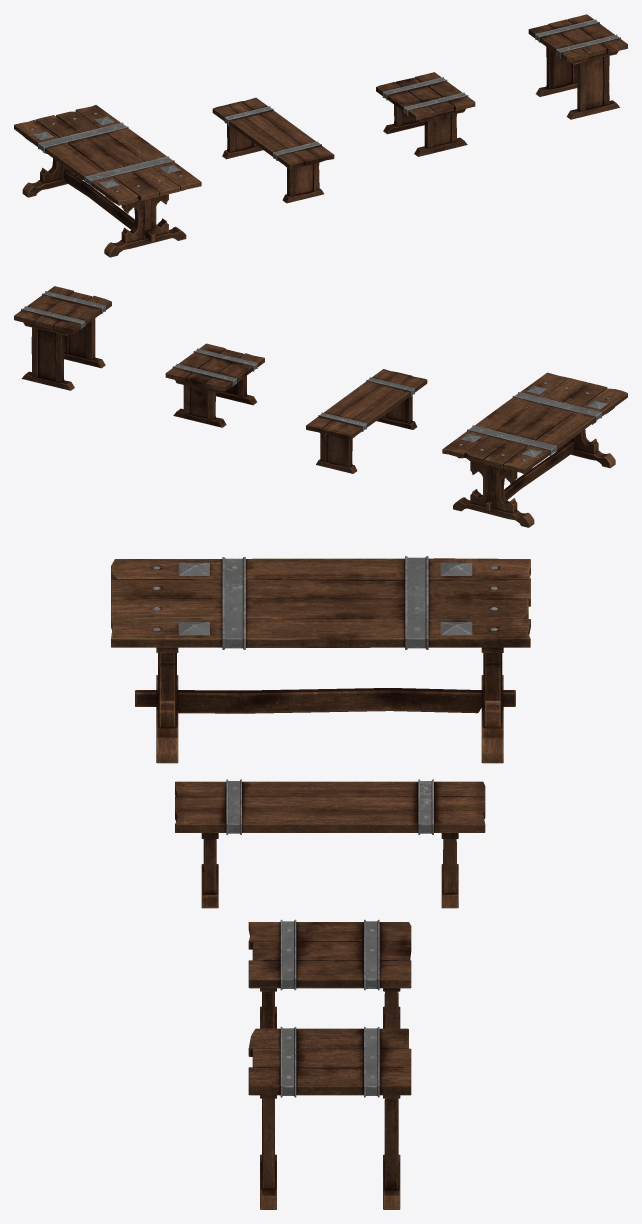
The model's file is Tables.fbx.
3 views of the same model, one above another, from view 1: azimuth 30°, elevation 25°; view 2: azimuth 150°, elevation 25°; view 3: azimuth 270°, elevation 25° (orthographic). The views are drawn at different scales.
Parts seen in each view (by area): view 1: Table_1, Tables_3.1, Table_2, Tables 3; view 2: Table_1, Tables_3.1, Table_2, Tables 3; view 3: Table_1, Table_2, Tables_3.1, Tables 3.
Part boxes in pixels (bbox=[...]): Table_1: bbox=[14, 105, 201, 257]; Tables_3.1: bbox=[528, 14, 627, 119]; Table_2: bbox=[212, 97, 334, 203]; Tables 3: bbox=[376, 72, 475, 156]; Table_1: bbox=[442, 372, 627, 527]; Tables_3.1: bbox=[14, 286, 111, 390]; Table_2: bbox=[306, 369, 427, 473]; Tables 3: bbox=[165, 343, 264, 427]; Table_1: bbox=[111, 556, 530, 763]; Table_2: bbox=[175, 779, 485, 908]; Tables_3.1: bbox=[248, 1026, 411, 1209]; Tables 3: bbox=[248, 919, 411, 1028].
Bounding box in the file's own units: 730 × 85.25 × 245.
